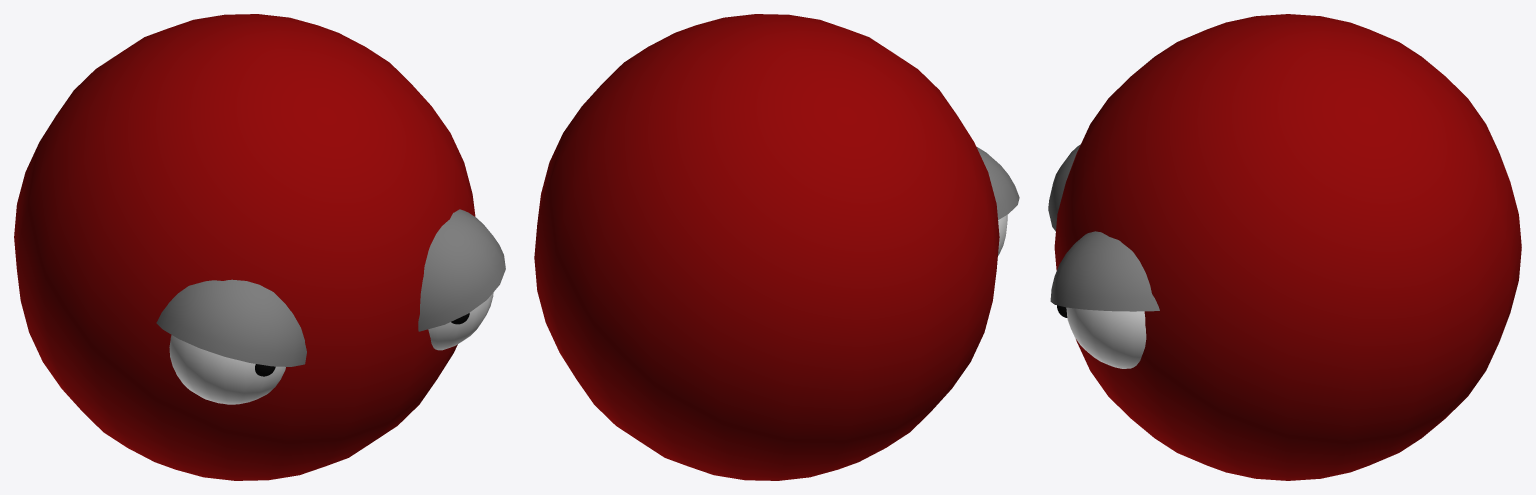
File: Enemy_Type_02.fbx
3 views of the same model, side by side, from view 1: azimuth 30°, elevation 25°; view 2: azimuth 150°, elevation 25°; view 3: azimuth 270°, elevation 25° (orthographic).
Parts seen in each view (by area): view 1: pSphere1, polySurface1, polySurface6; view 2: pSphere1, polySurface1; view 3: pSphere1, polySurface6, polySurface1.
Part boxes in pixels (x1=…): pSphere1: x1=14, y1=14, x2=475, y2=480; polySurface1: x1=156, y1=279, x2=306, y2=404; polySurface6: x1=418, y1=209, x2=505, y2=350; pSphere1: x1=534, y1=14, x2=999, y2=480; polySurface1: x1=976, y1=146, x2=1019, y2=255; pSphere1: x1=1054, y1=14, x2=1521, y2=480; polySurface6: x1=1050, y1=231, x2=1159, y2=368; polySurface1: x1=1048, y1=144, x2=1080, y2=231.
Bounding box in the file's own units: 13.23 × 13.23 × 13.41.
